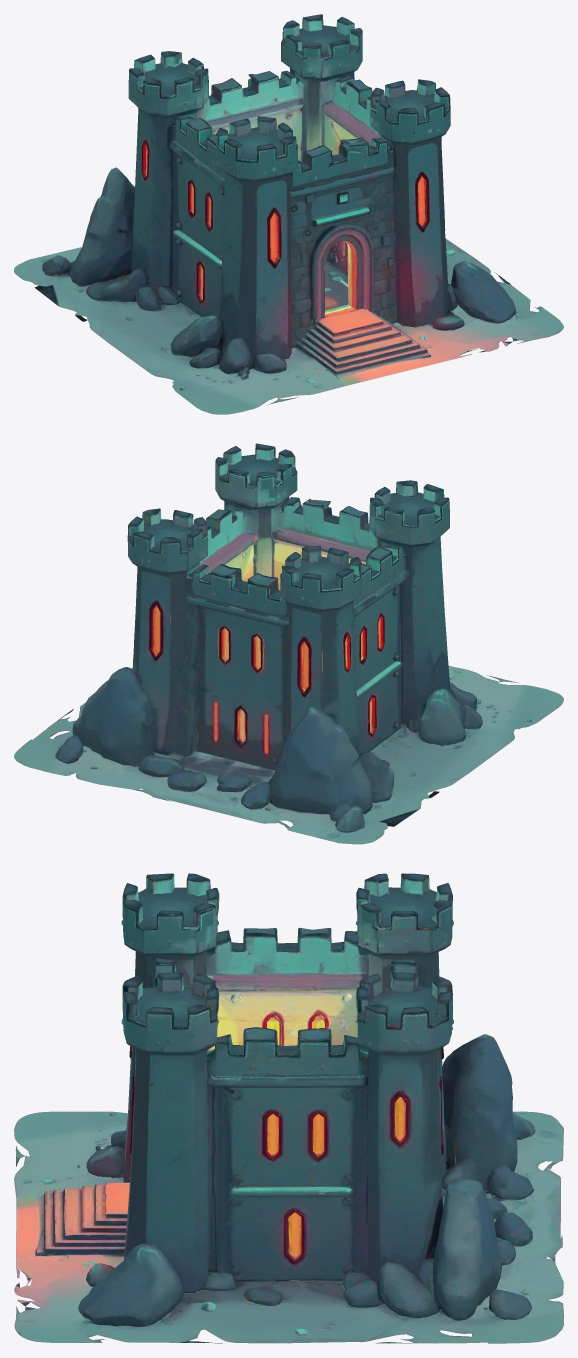
Rendered from bld-security-keep.glb.
3 renders of one model, top to bottom at view 1: azimuth 30°, elevation 25°; view 2: azimuth 150°, elevation 25°; view 3: azimuth 270°, elevation 25°, orthographic. The views are drawn at different scales.
Parts seen in each view (by area): view 1: Mesh_0; view 2: Mesh_0; view 3: Mesh_0.
Part boxes in pixels (x1,y1,x2,y2): Mesh_0: (14,14,563,414); Mesh_0: (14,443,563,844); Mesh_0: (14,873,563,1343).
Size of the model in its own units: 1.9 by 1.09 by 1.9.
1 material, 1 textured.
